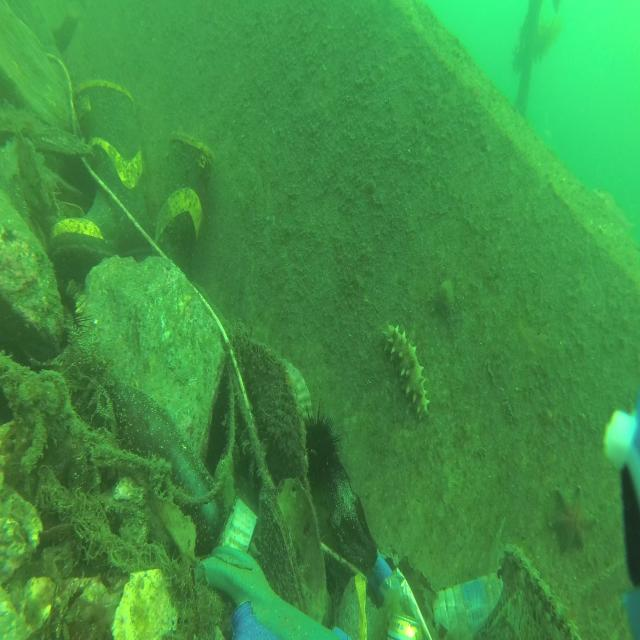echinus: (301, 398, 343, 487), (56, 285, 94, 347)
holothurian: (380, 319, 431, 424)
starfish: (548, 486, 600, 556)
